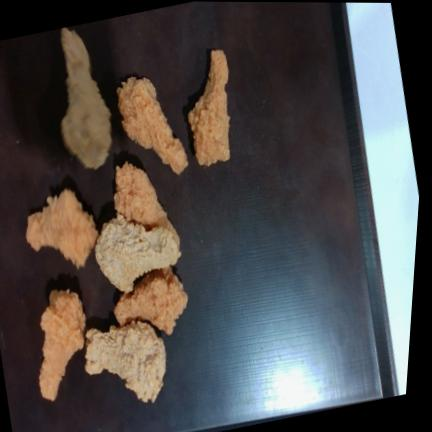chicken: (61, 27, 112, 169), (117, 77, 188, 174), (95, 215, 181, 292), (86, 321, 166, 402), (26, 189, 98, 269), (114, 161, 180, 247), (39, 290, 86, 400), (114, 266, 188, 334), (189, 50, 230, 165)
